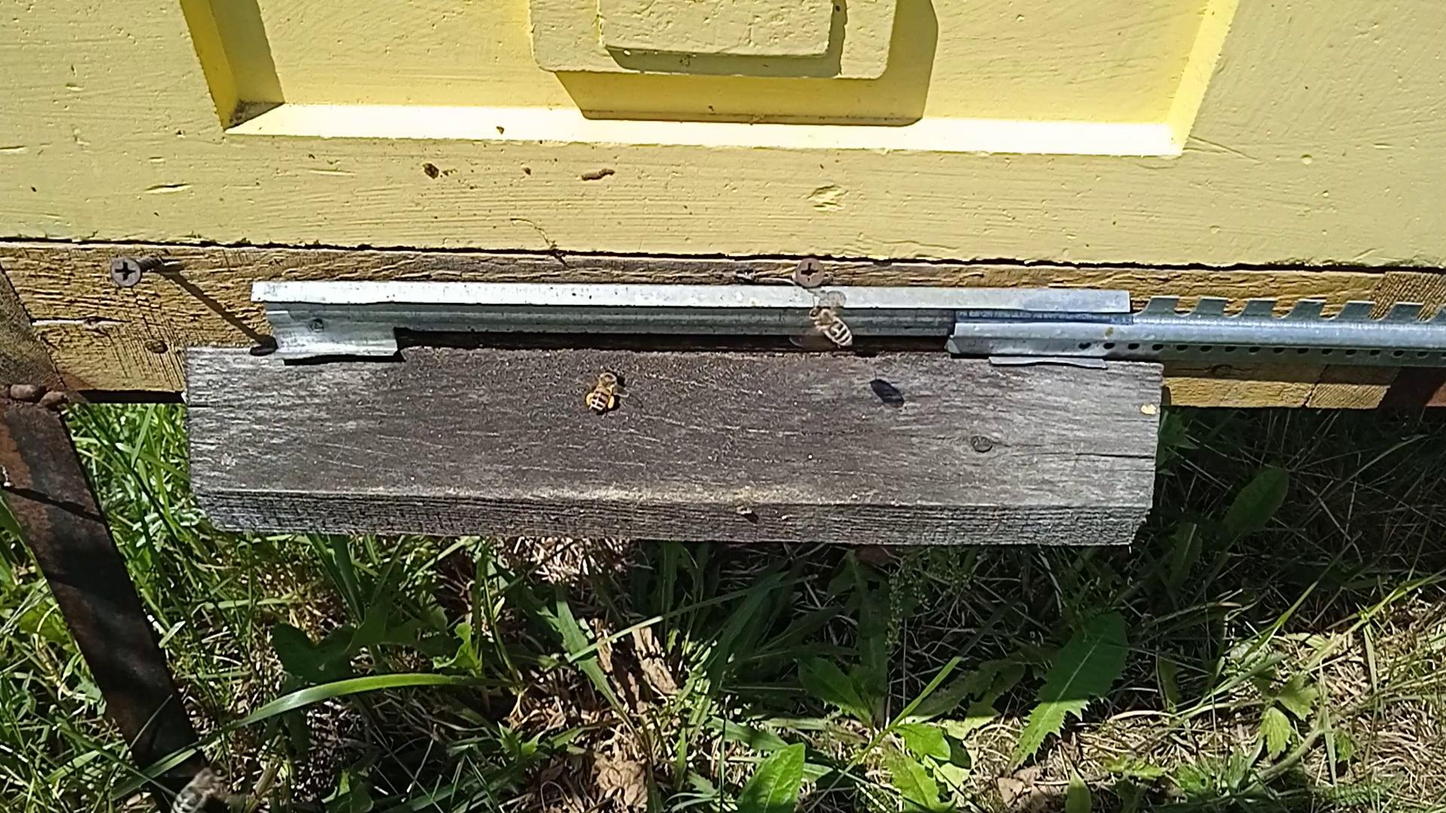worker-bee: (173, 764, 228, 813), (807, 304, 854, 347), (583, 365, 624, 414)
